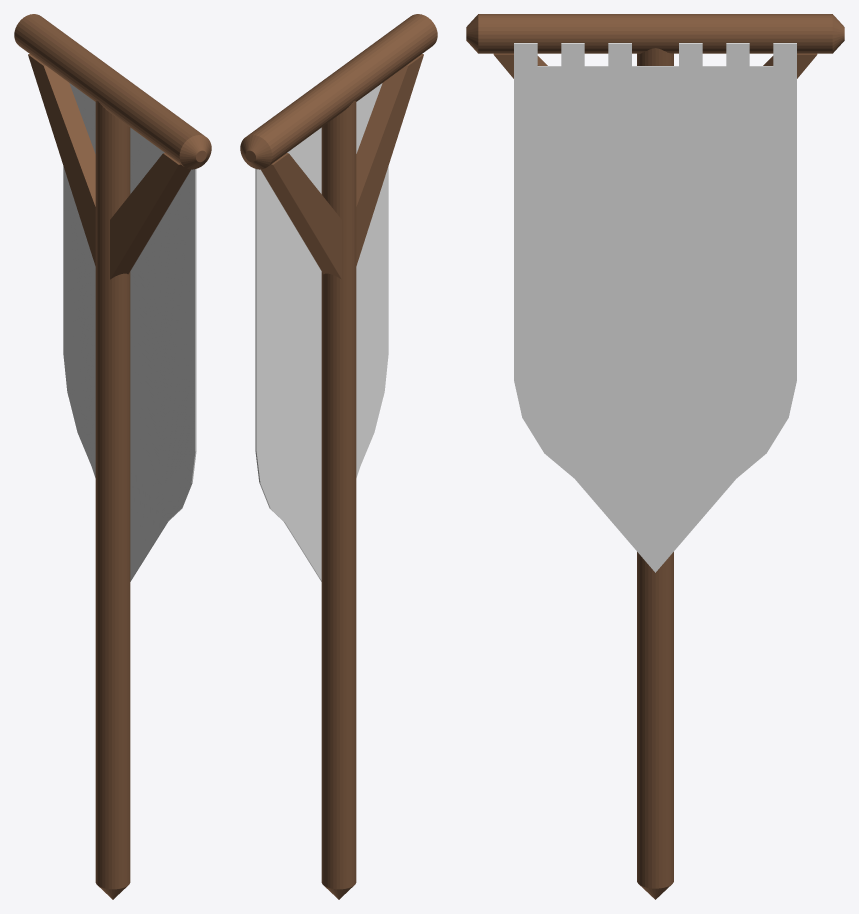
File: RTSFlagJoined.fbx
3 renders of one model, left to right at view 1: azimuth 30°, elevation 25°; view 2: azimuth 150°, elevation 25°; view 3: azimuth 270°, elevation 25°, orthographic. The views are drawn at different scales.
Parts seen in each view (by area): view 1: FlagPost, Flag; view 2: FlagPost, Flag; view 3: Flag, FlagPost.
Boxes of the visible parts, box(x1,y1,x2,y2) form: FlagPost: box(14, 14, 211, 899); Flag: box(63, 83, 196, 581); FlagPost: box(240, 14, 437, 899); Flag: box(255, 83, 388, 581); Flag: box(514, 43, 796, 572); FlagPost: box(466, 14, 844, 899).
Bounding box in the file's own units: 16.32 × 382 × 148.
